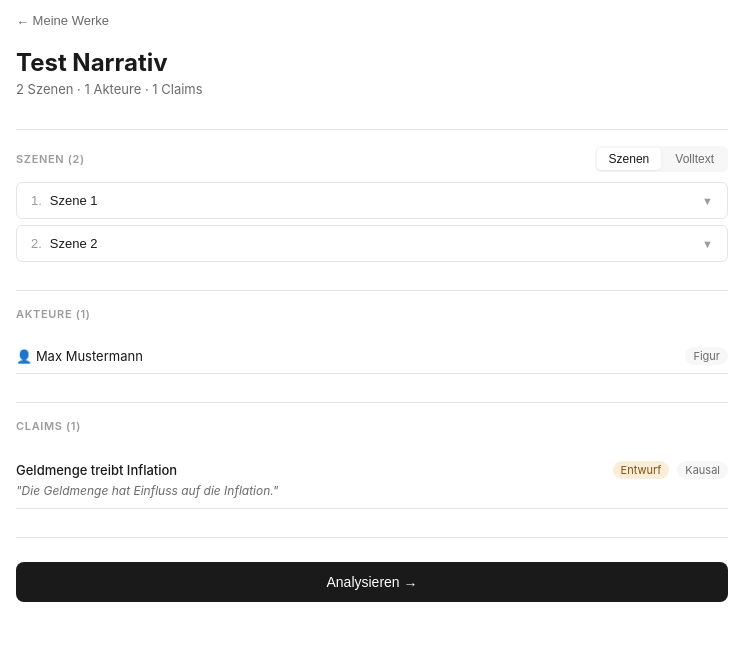
Test: NarrativeDetail › switching to Volltext shows scene text directly
The width and height of the screenshot is (745, 672).
Expected: the heading "Test Narrativ" is shown, [16, 48, 168, 77]
Click the button "Volltext" at (695, 159), box [663, 148, 726, 170]
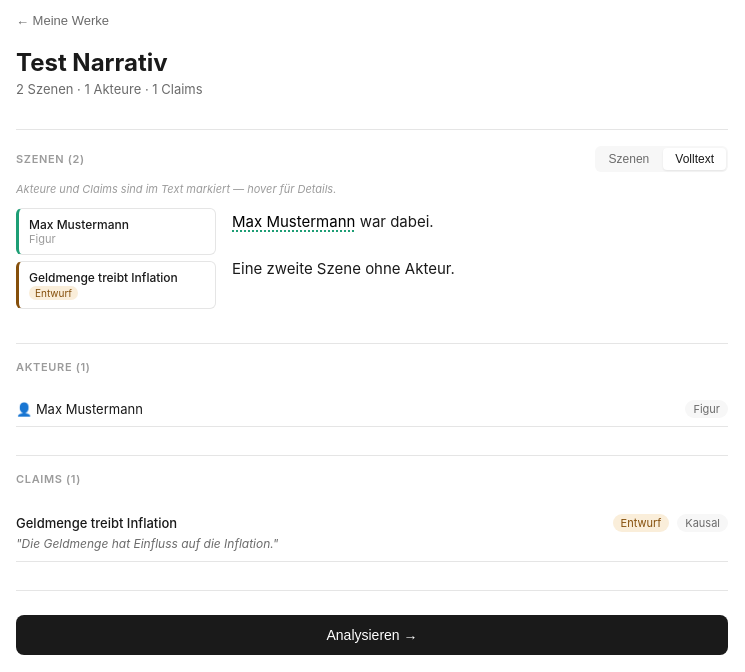
Expected: the text "Max Mustermann war dabei." is shown, [232, 212, 434, 231]
Expected: the text "Eine zweite Szene ohne Akteur." is shown, [232, 259, 455, 278]
